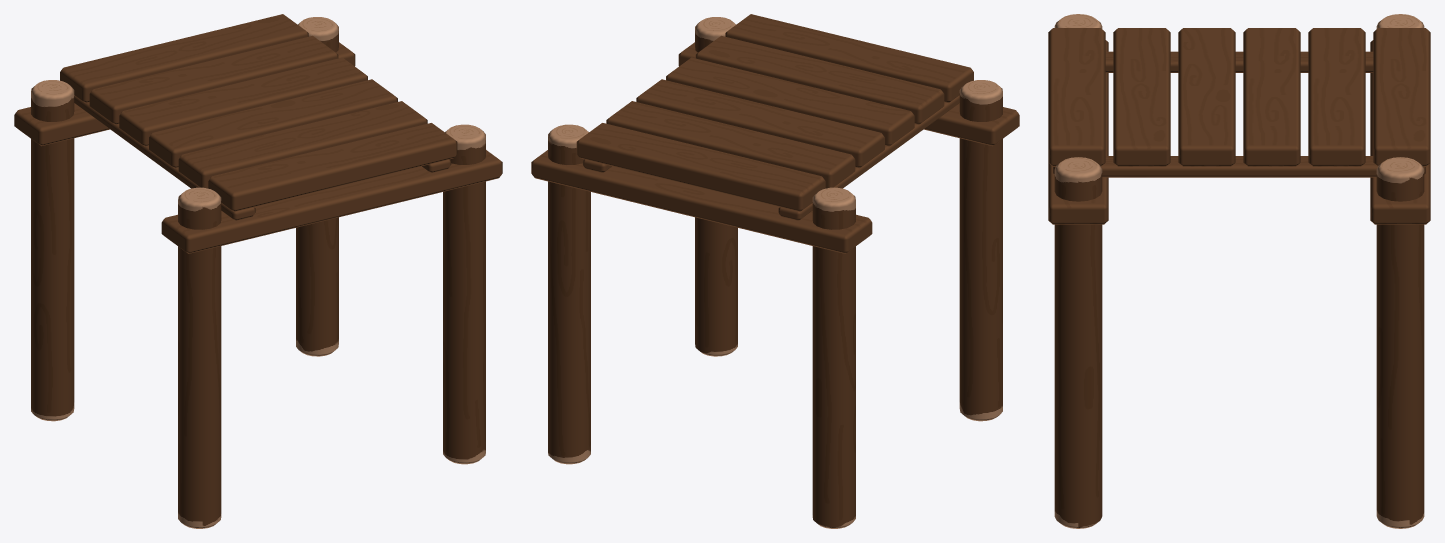
File: M_Small_Medium_High_2.fbx
3 renders of one model, left to right at view 1: azimuth 30°, elevation 25°; view 2: azimuth 150°, elevation 25°; view 3: azimuth 270°, elevation 25°, orthographic. The views are drawn at different scales.
Parts seen in each view (by area): view 1: M_Small_Medium_High_2; view 2: M_Small_Medium_High_2; view 3: M_Small_Medium_High_2.
Boxes of the visible parts, left/top/right/bottom form: M_Small_Medium_High_2: left=14, top=14, right=502, bottom=528; M_Small_Medium_High_2: left=531, top=14, right=1019, bottom=528; M_Small_Medium_High_2: left=1048, top=14, right=1430, bottom=528.
Size of the model in its own units: 420 by 420 by 400.
